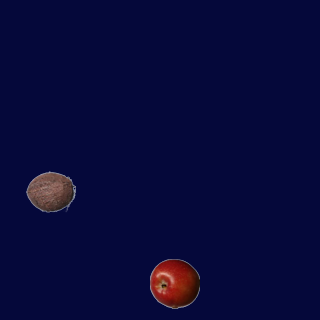Apple Braeburn: (149, 258, 199, 308)
Cocos: (25, 166, 75, 216)
